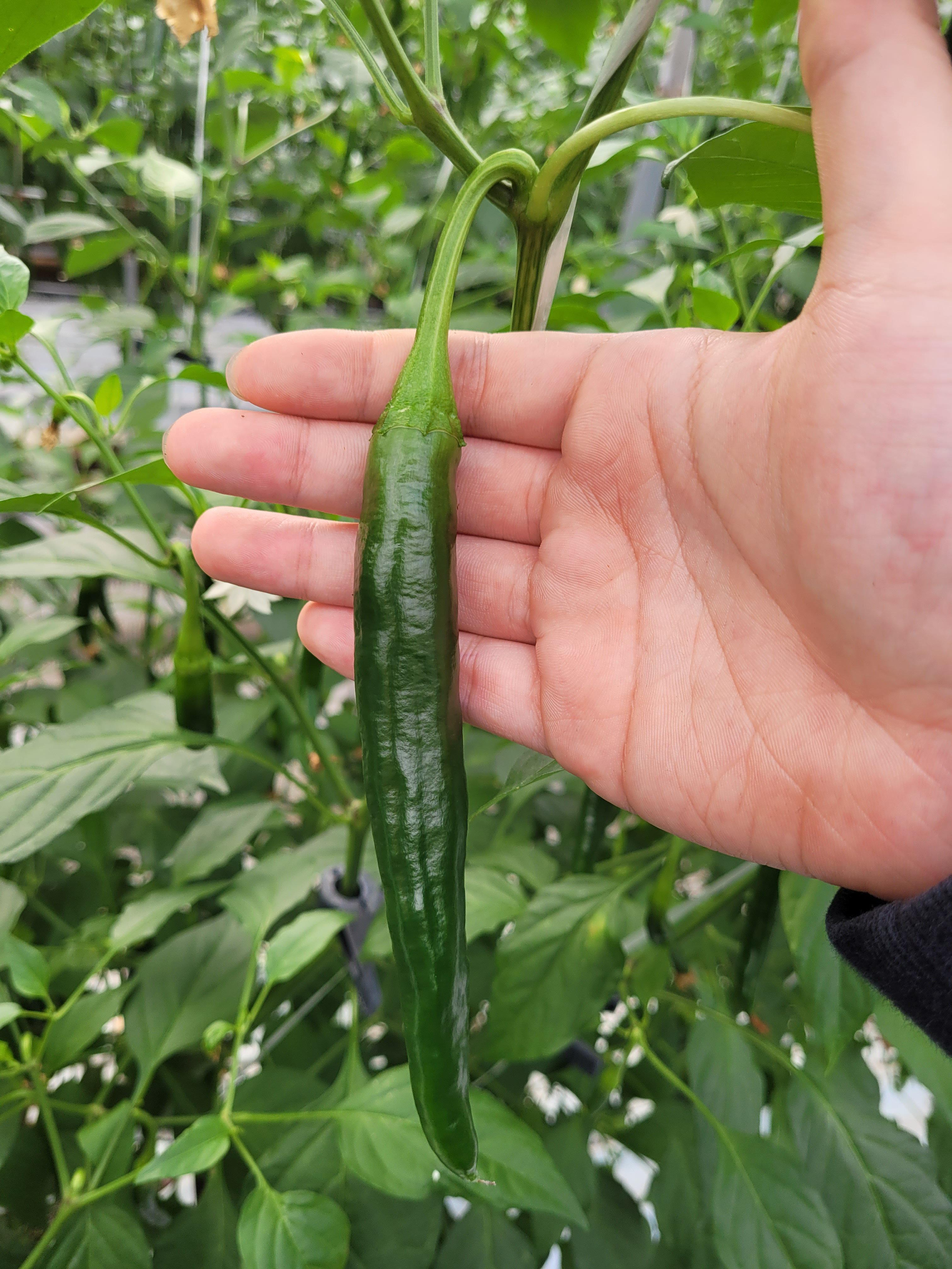Buah Cabai Sehat: (343, 350, 490, 1195)
